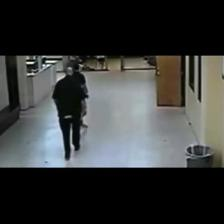person: (53, 67, 86, 160), (73, 64, 88, 98)
